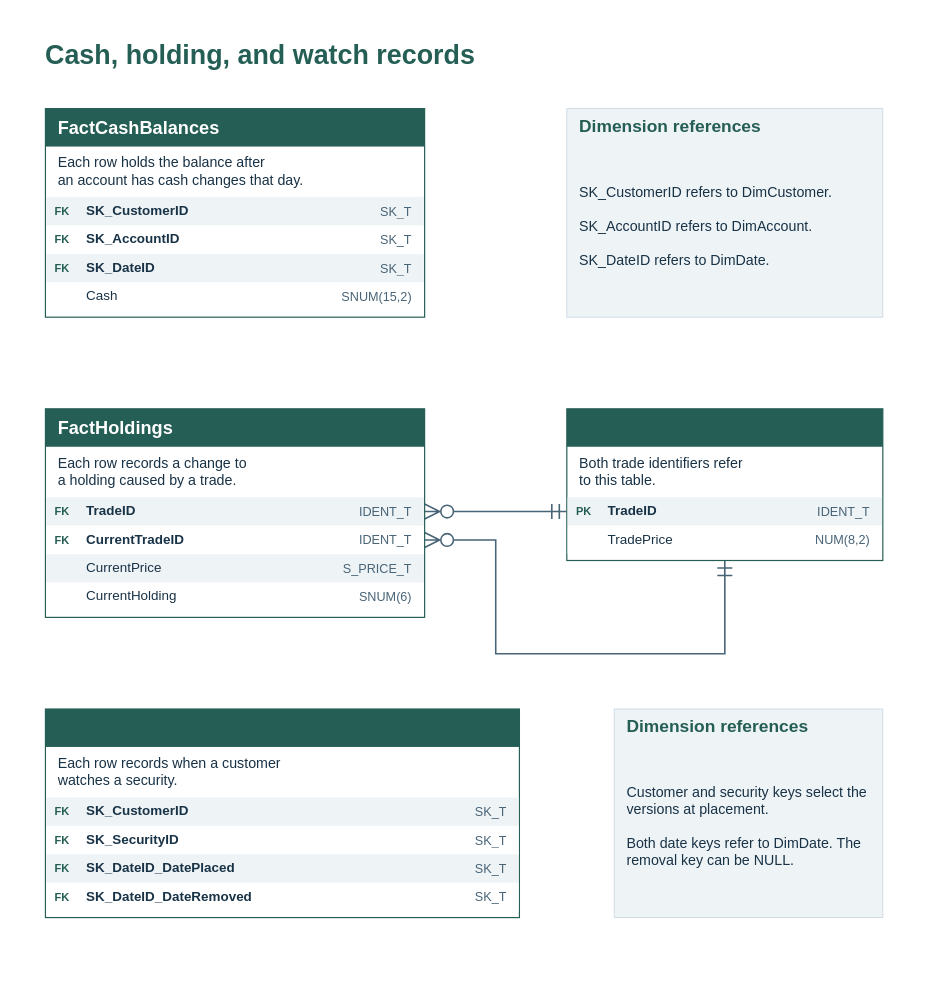
Some shapes in this 927 by 991 pixel diagram are drawn without their labels. Each missing label, with the box of its shape:
DimTrade: (566, 408, 882, 446)
FactWatches: (45, 709, 519, 747)
